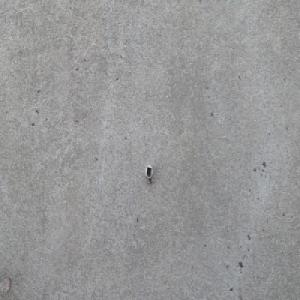MetalPart: (144, 164, 154, 187)
